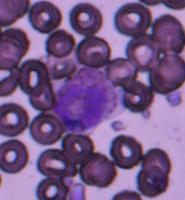E: (52, 67, 118, 134)
